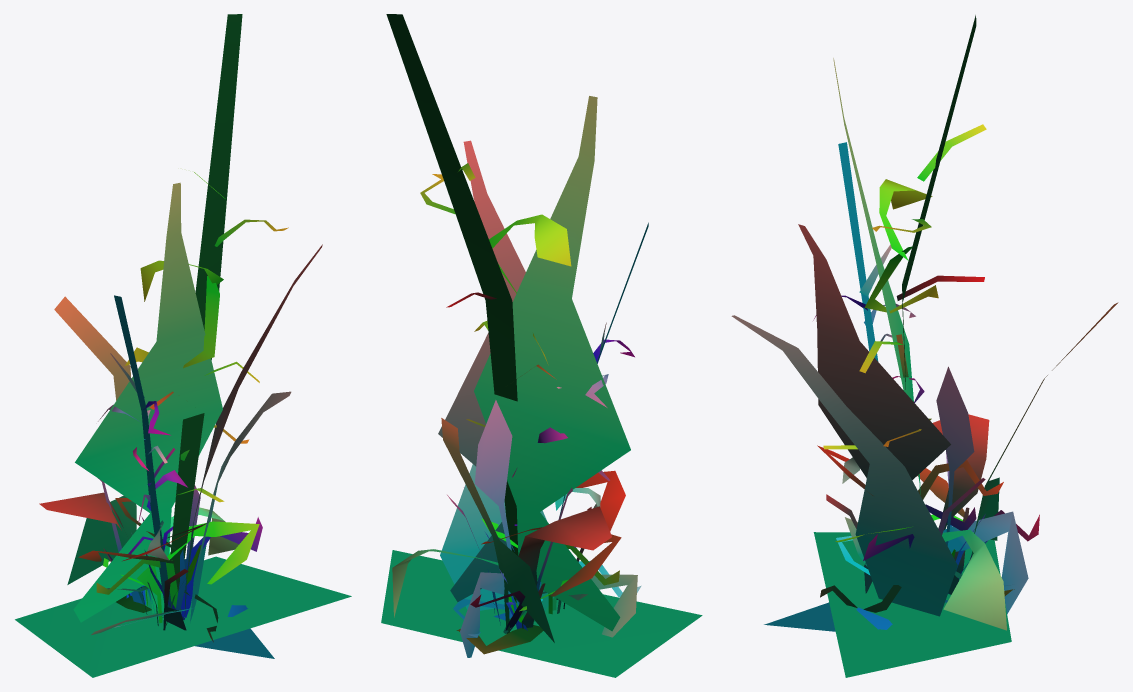
File: Dry_Grass_tbbqejqr_Mid_tbbqejqr_VarA_LOD1.fbx
The picture shows the model from 3 angles, left to right: view 1: azimuth 30°, elevation 25°; view 2: azimuth 150°, elevation 25°; view 3: azimuth 270°, elevation 25°; orthographic projection. The views are drawn at different scales.
Parts seen in each view (by area): view 1: _27b3_VarA_LOD2; view 2: _27b3_VarA_LOD2; view 3: _27b3_VarA_LOD2.
Part boxes in pixels (bbox=[...]): _27b3_VarA_LOD2: bbox=[15, 14, 351, 677]; _27b3_VarA_LOD2: bbox=[381, 14, 702, 677]; _27b3_VarA_LOD2: bbox=[731, 15, 1118, 677].
Size of the model in its own units: 34.08 by 68.78 by 37.04.
